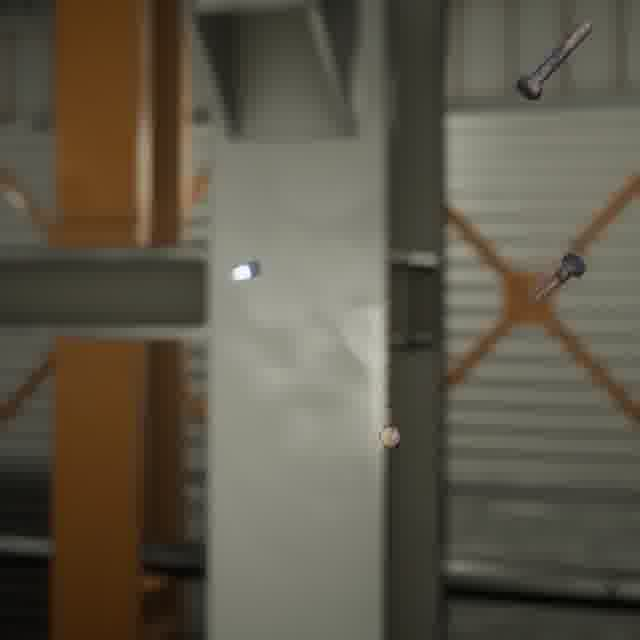bolt: (511, 16, 597, 105), (527, 247, 590, 306), (374, 422, 407, 452)
nut: (225, 256, 266, 285)
